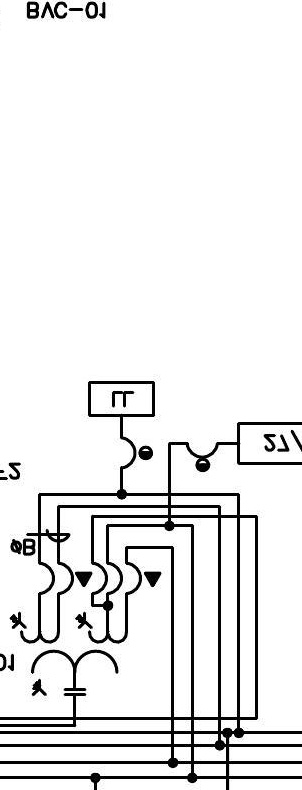115_cvt_3p: (9, 611, 129, 696)
LL: (88, 381, 155, 417)
